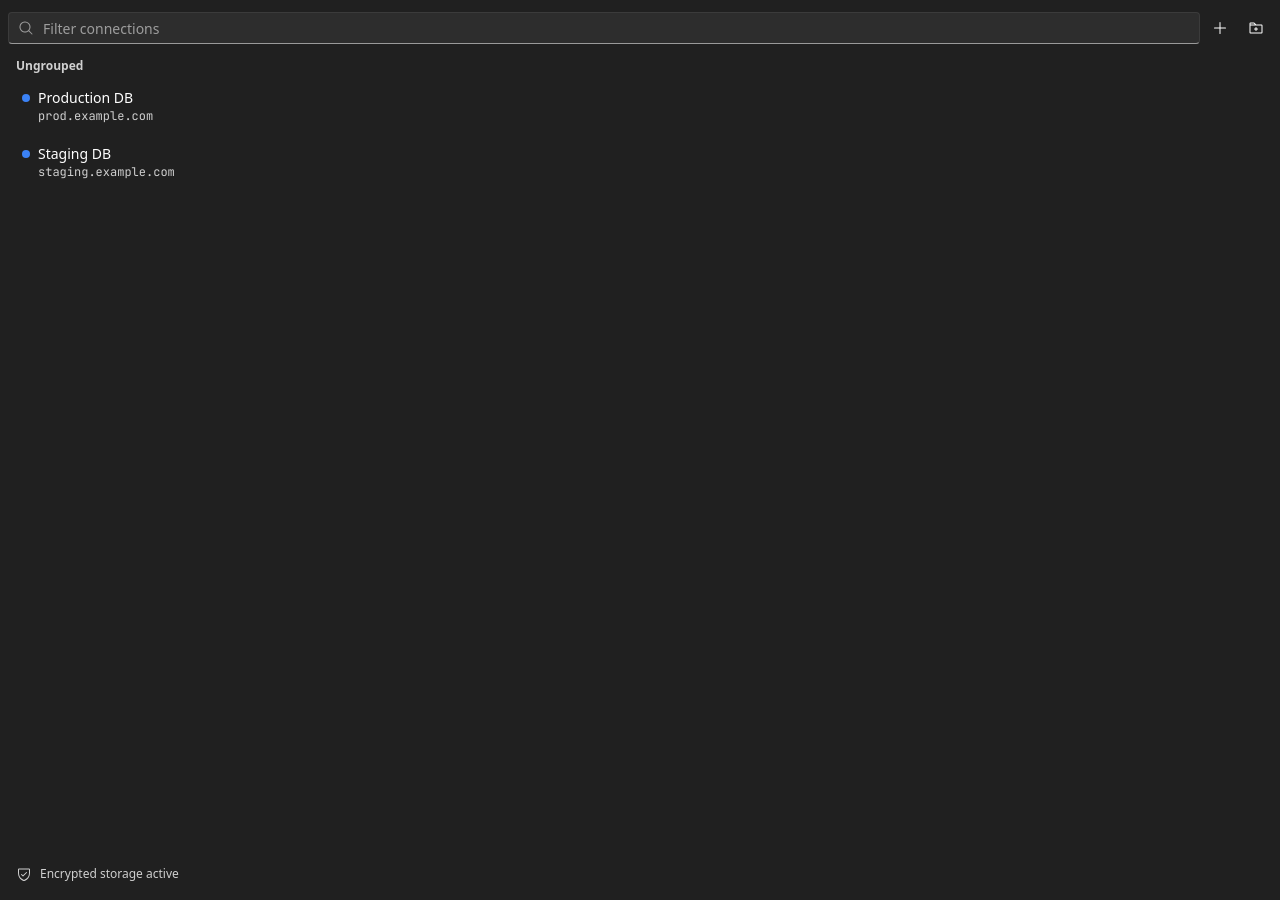
Test: SavedConnectionsList › quick filter › filters connections by name (case-insensitive)
The width and height of the screenshot is (1280, 900).
Type "staging" into the field with test id "connection-filter-input" at (604, 28), box [8, 12, 1200, 44]
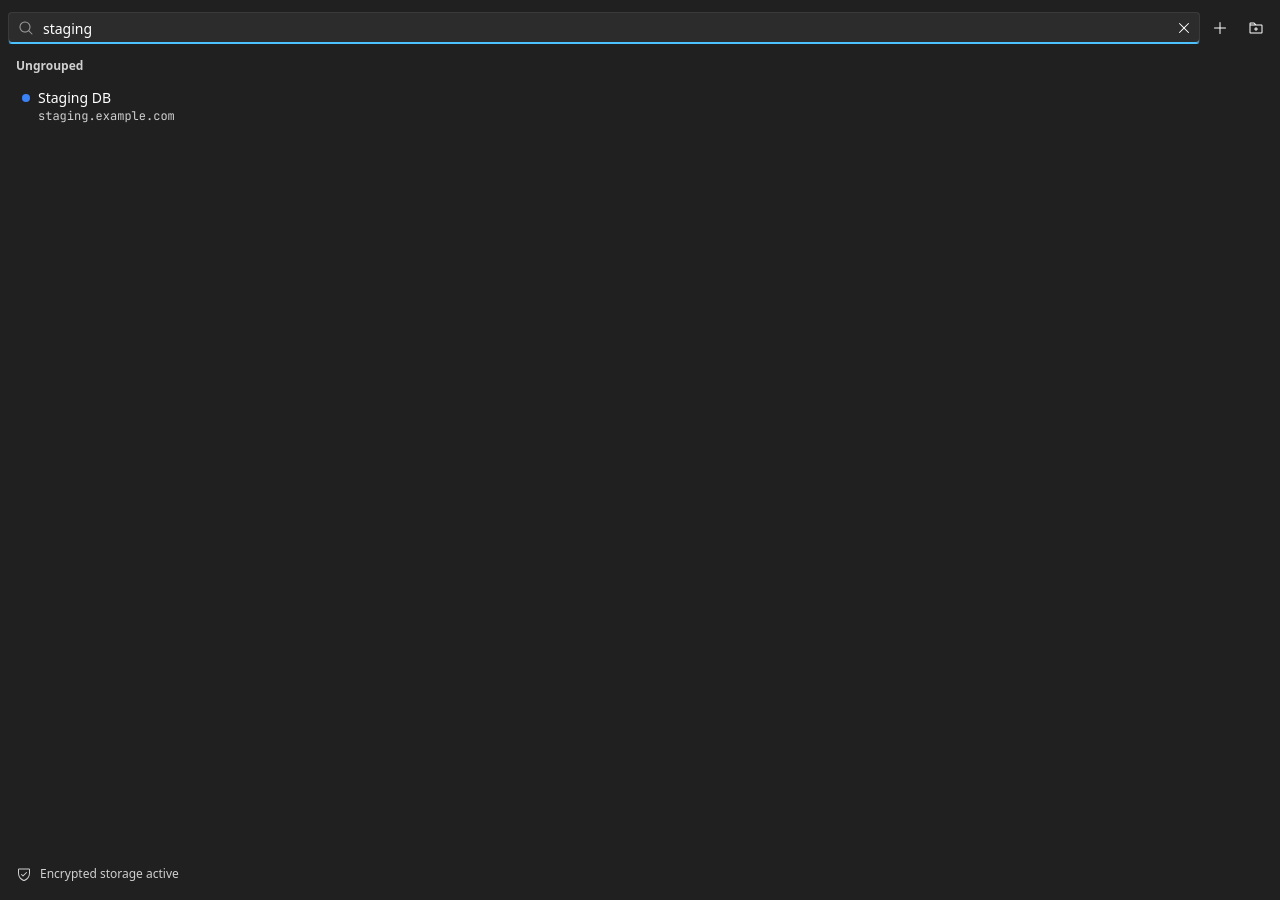
expect the text "Staging DB" is shown: met, box [38, 88, 111, 108]
expect the button "Production DB" is gone: met
